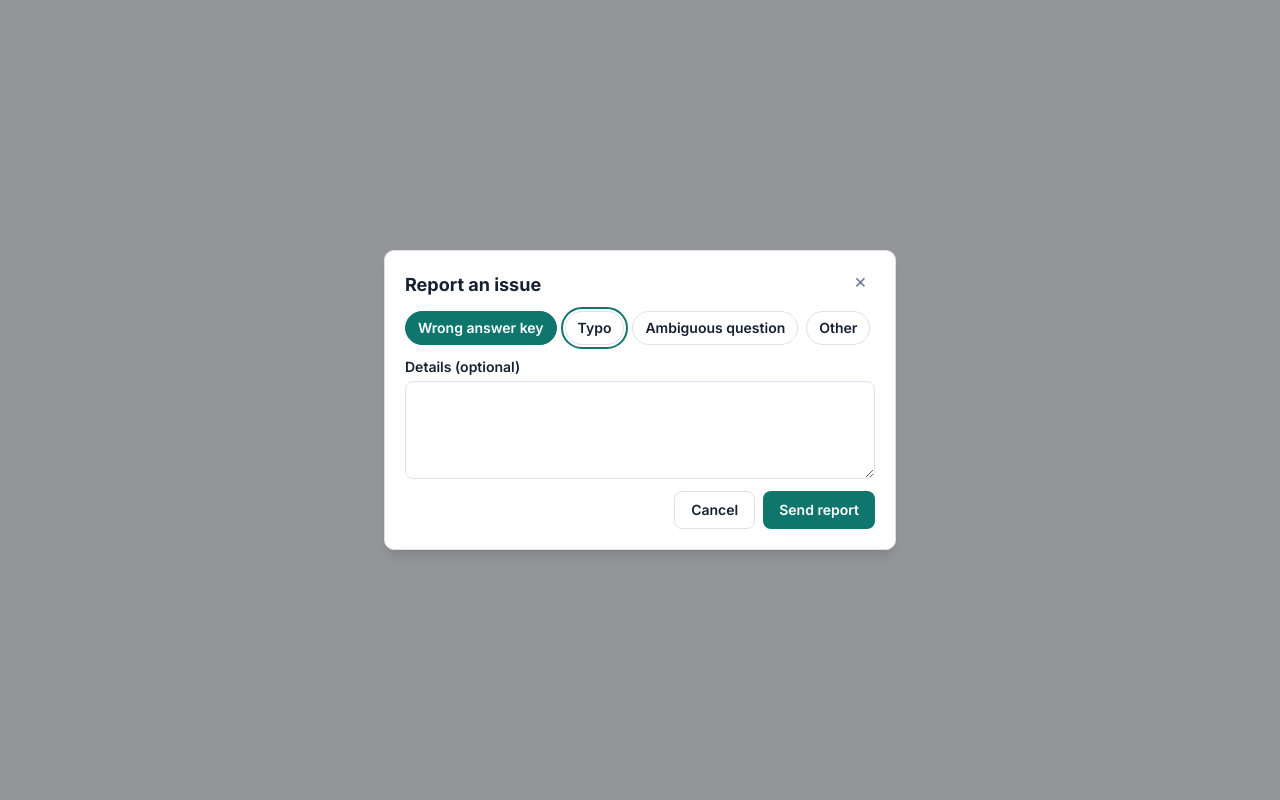
Test: ReportIssueDialog › posts the chosen type and text
This screenshot has width=1280, height=800.
Step 1. Click the radio button labelled "Typo" → [594, 328], box 564,311 -> 624,345
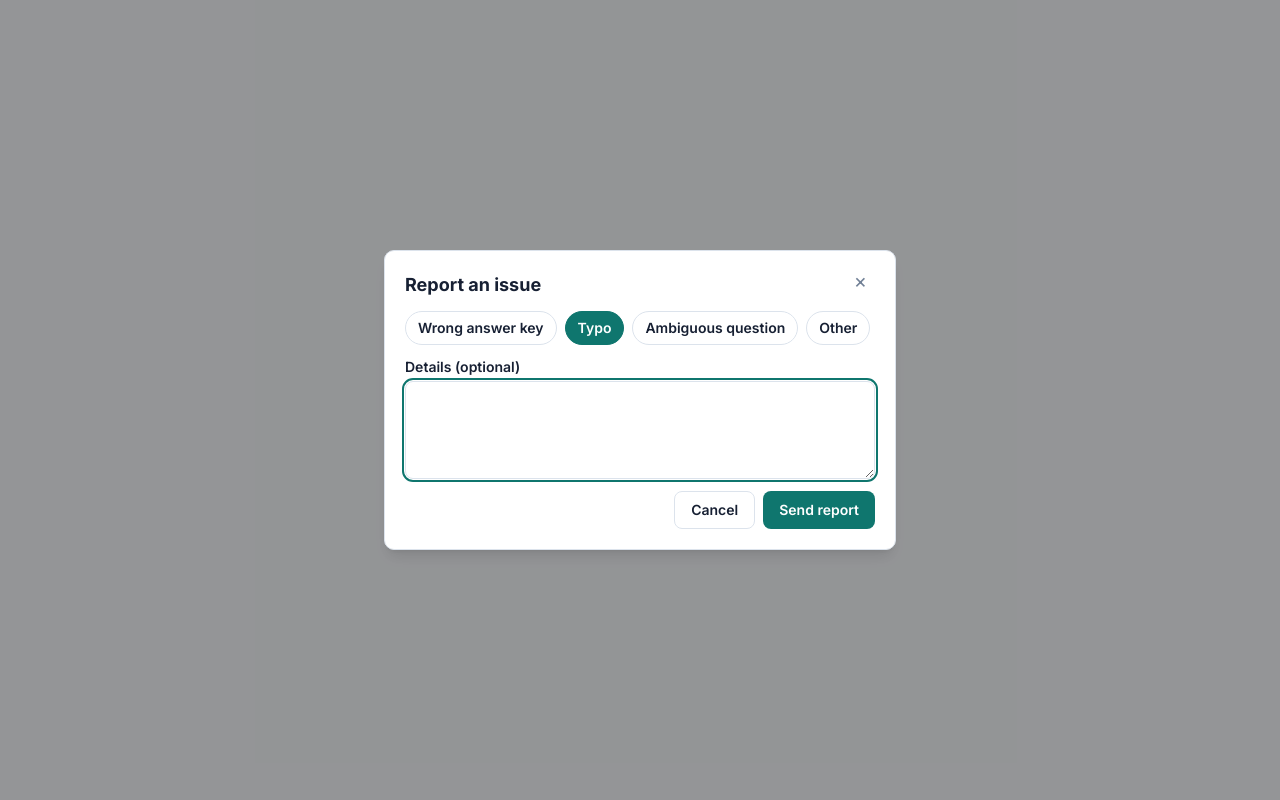
Step 2. Type "Spelling in option B" into the text box labelled "Details (optional)" → [640, 430], box 405,381 -> 875,479
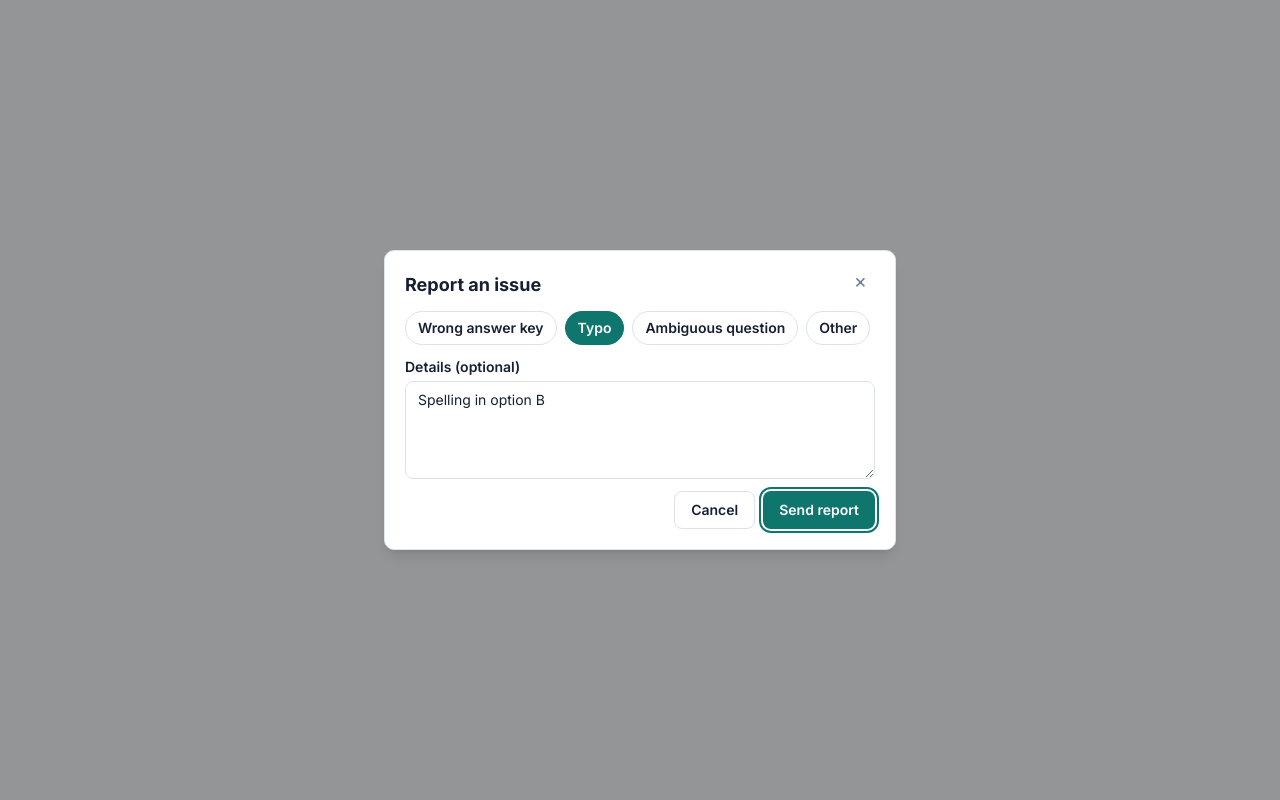
Step 3. Click the button "Send report" → [819, 510], box 763,491 -> 875,529
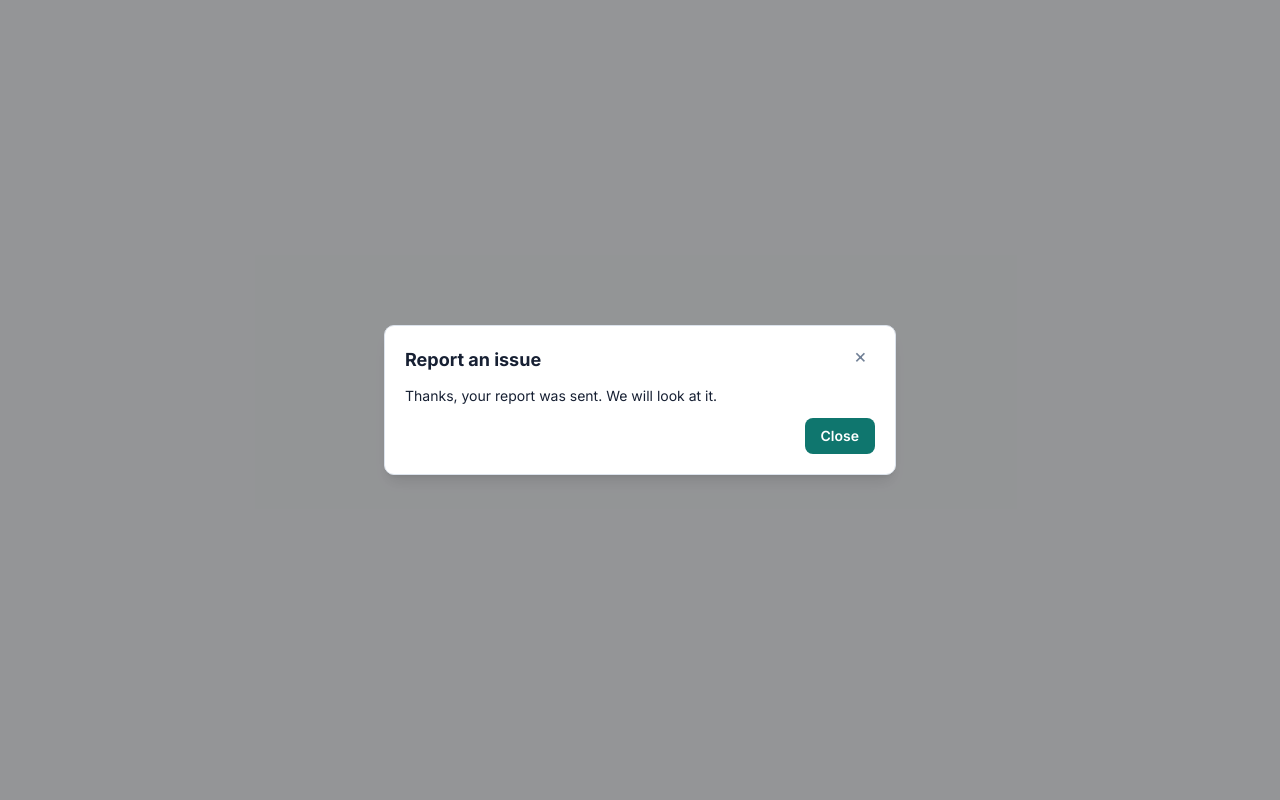
Check: the text "Thanks, your report was sent. We will look at it." is shown, box 405,387 -> 717,404
